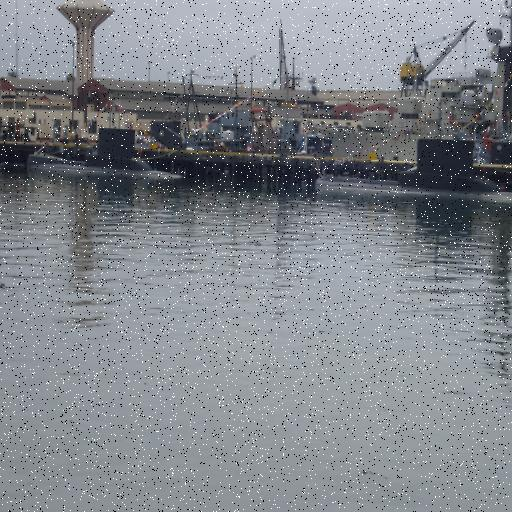submarine: (311, 139, 512, 215), (27, 129, 187, 183)
